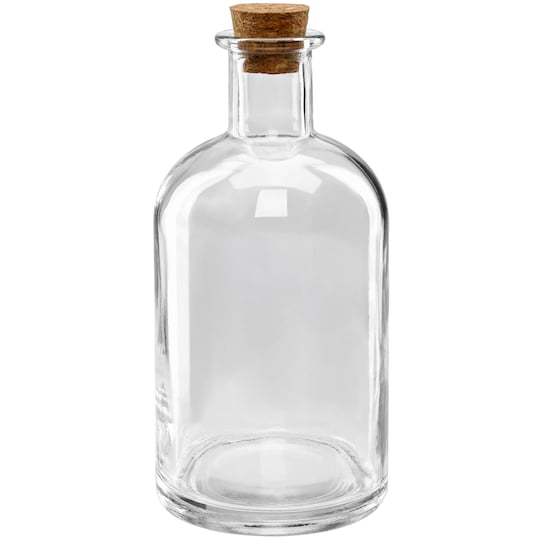glass_bottle: (148, 4, 410, 540)
